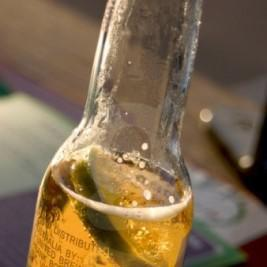beer: (25, 2, 206, 266)
